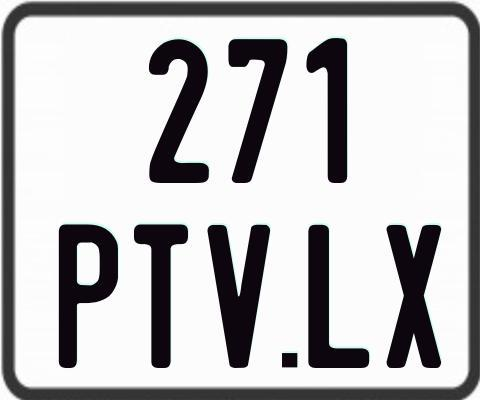1: (305, 35, 350, 180)
2: (146, 39, 212, 187)
7: (228, 38, 289, 183)
L: (307, 222, 373, 369)
P: (57, 223, 122, 369)
T: (131, 222, 186, 370)
V: (206, 224, 271, 372)
X: (384, 222, 438, 365)
